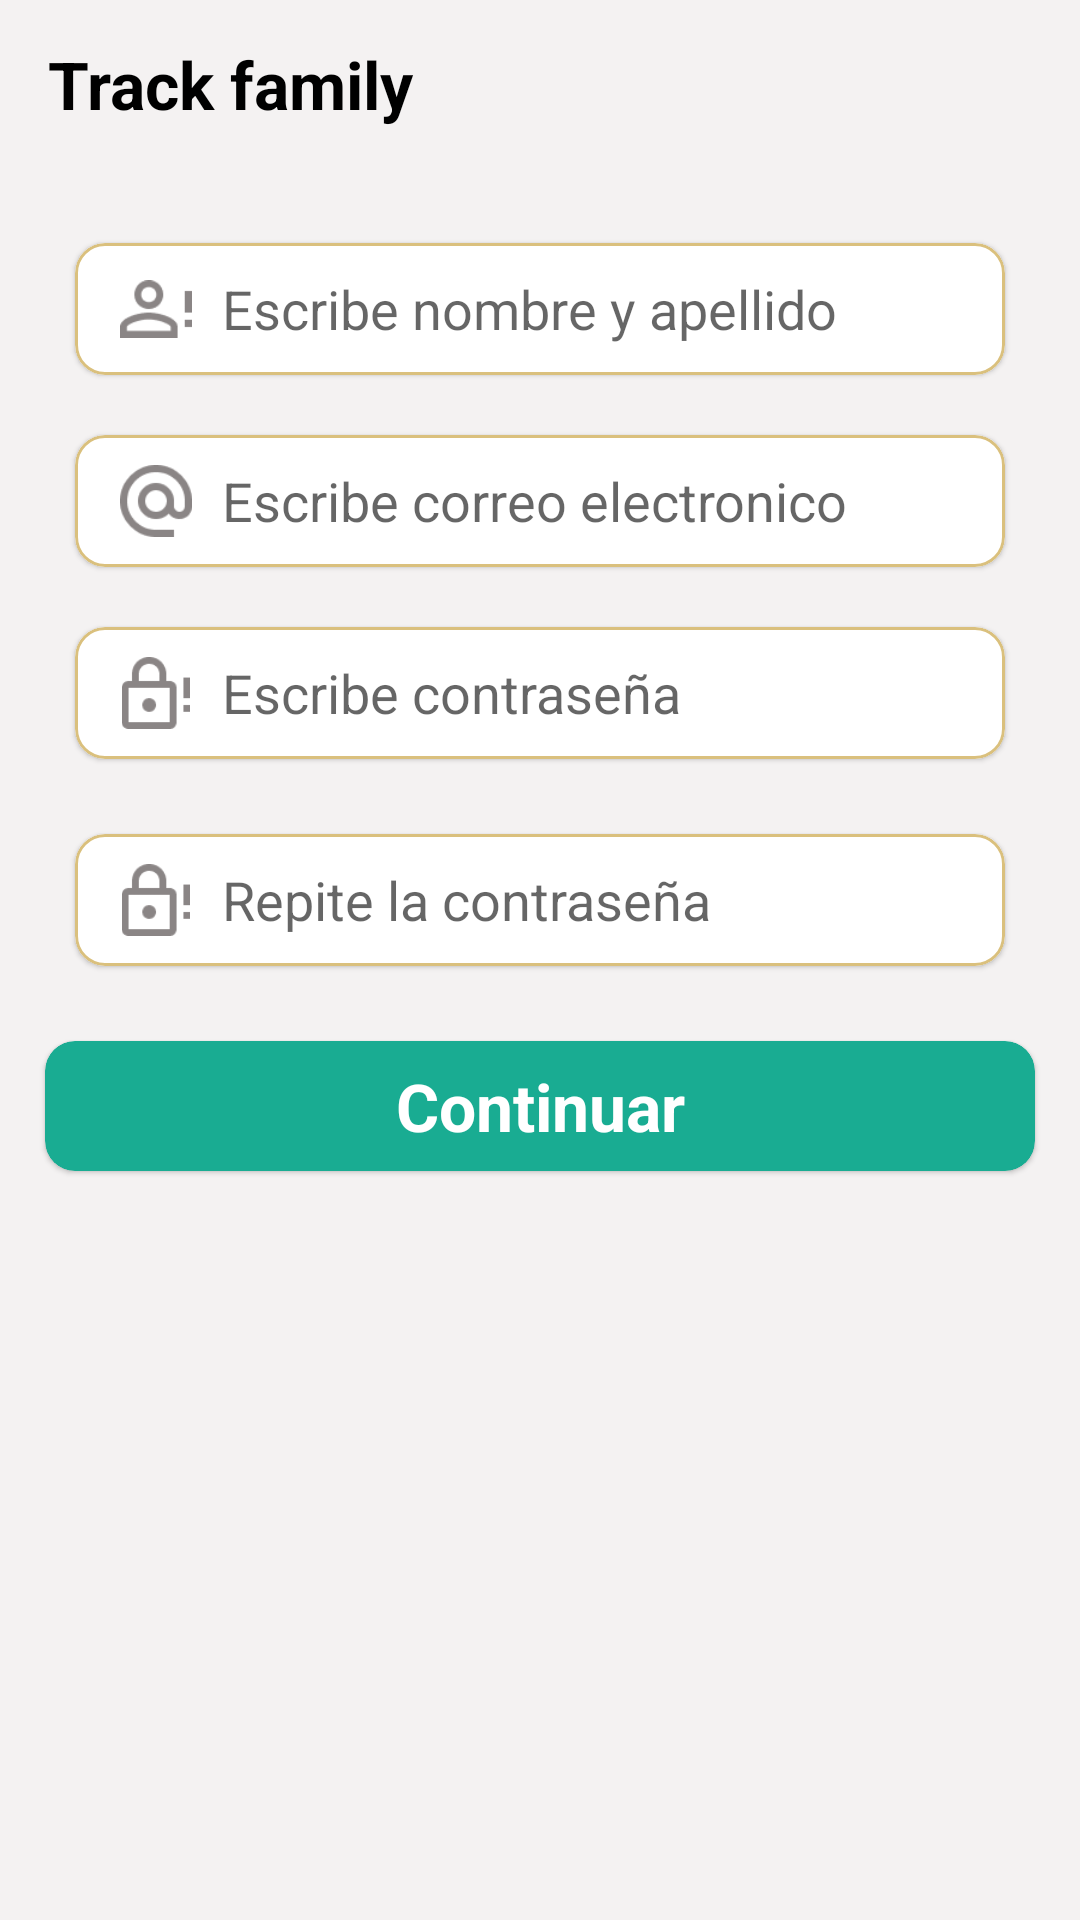

Where to tap for icons on this 1080 x 1920 app screen, as (x,y):
user: (156,309)
